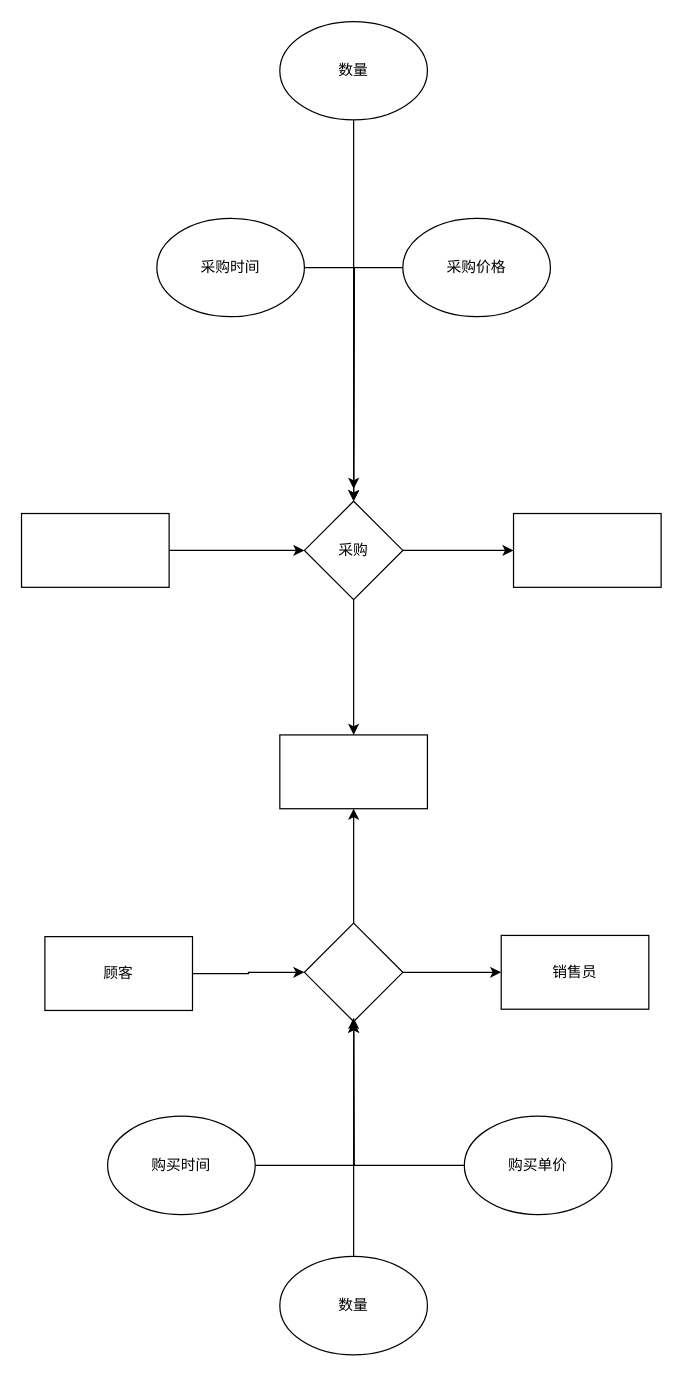
Image size: 683x1376. Some labels were removed from this diagram. Here are the shapes that lost their labels. From the top down, the centre of each, then its label:
At (94,549): "采购员".
At (586,549): "家具供应商".
At (353,771): "家具".
At (353,972): "购买".
